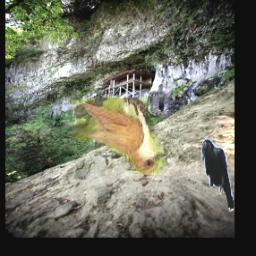Crow: (201, 138, 235, 212)
Cuckoo: (40, 98, 167, 175)
